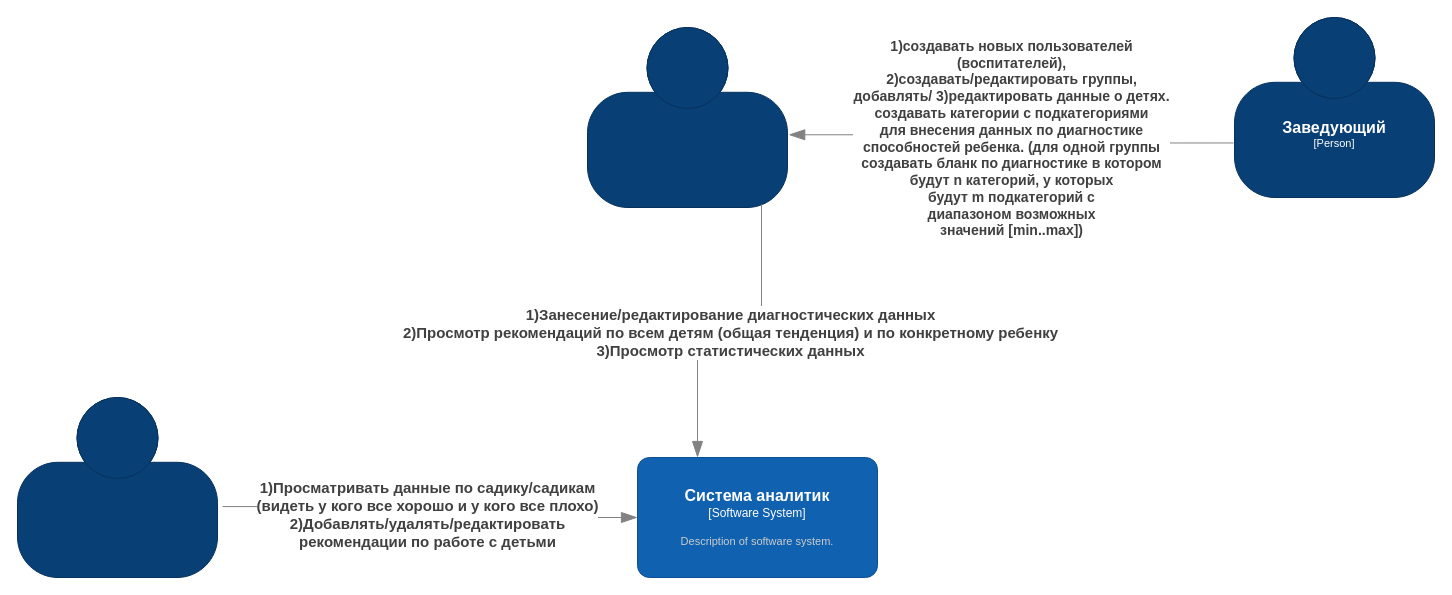
This 1452x595 diagram has some shape labels left out. The box of each missing label's shape, as (x1, y1, x2, y2) in pixels:
Аналитик [Person]: (16, 396, 218, 578)
Воспитатель [Person]: (586, 26, 788, 208)
